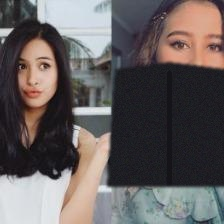Cadar_Niqab: (107, 0, 224, 186)
